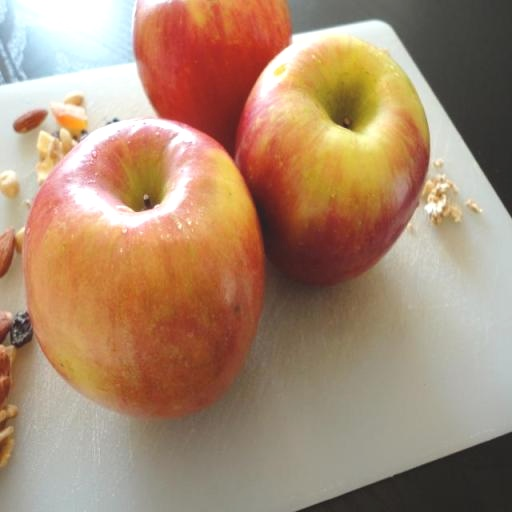fruit: (23, 120, 263, 417), (236, 35, 428, 283)
